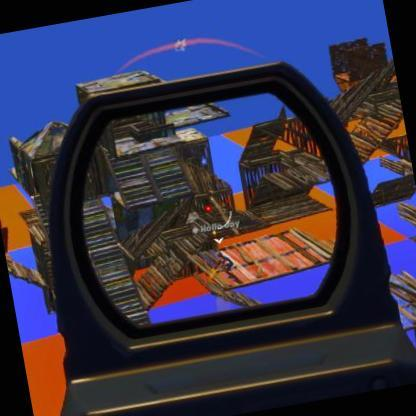person: (214, 248, 235, 280)
